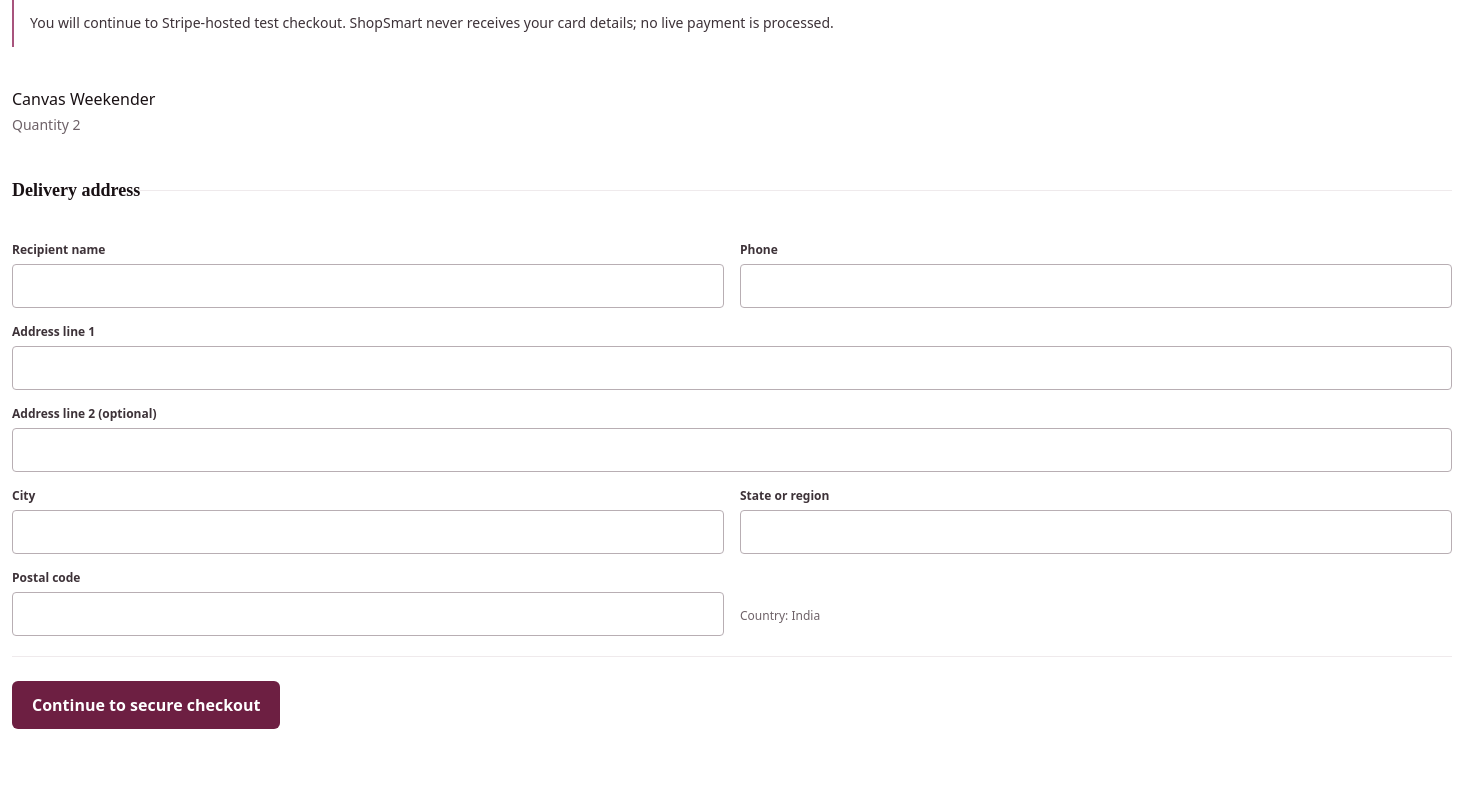
it: CheckoutForm › rejects an unverified redirect destination and does not claim an order was paid
The image size is (1464, 810).
In the field labelled "Recipient name": [368, 286] box x1=12 y1=264 x2=724 y2=308, type "Portfolio Shopper"
In the field labelled "Phone": [1096, 286] box x1=740 y1=264 x2=1452 y2=308, type "+91 98765 43210"
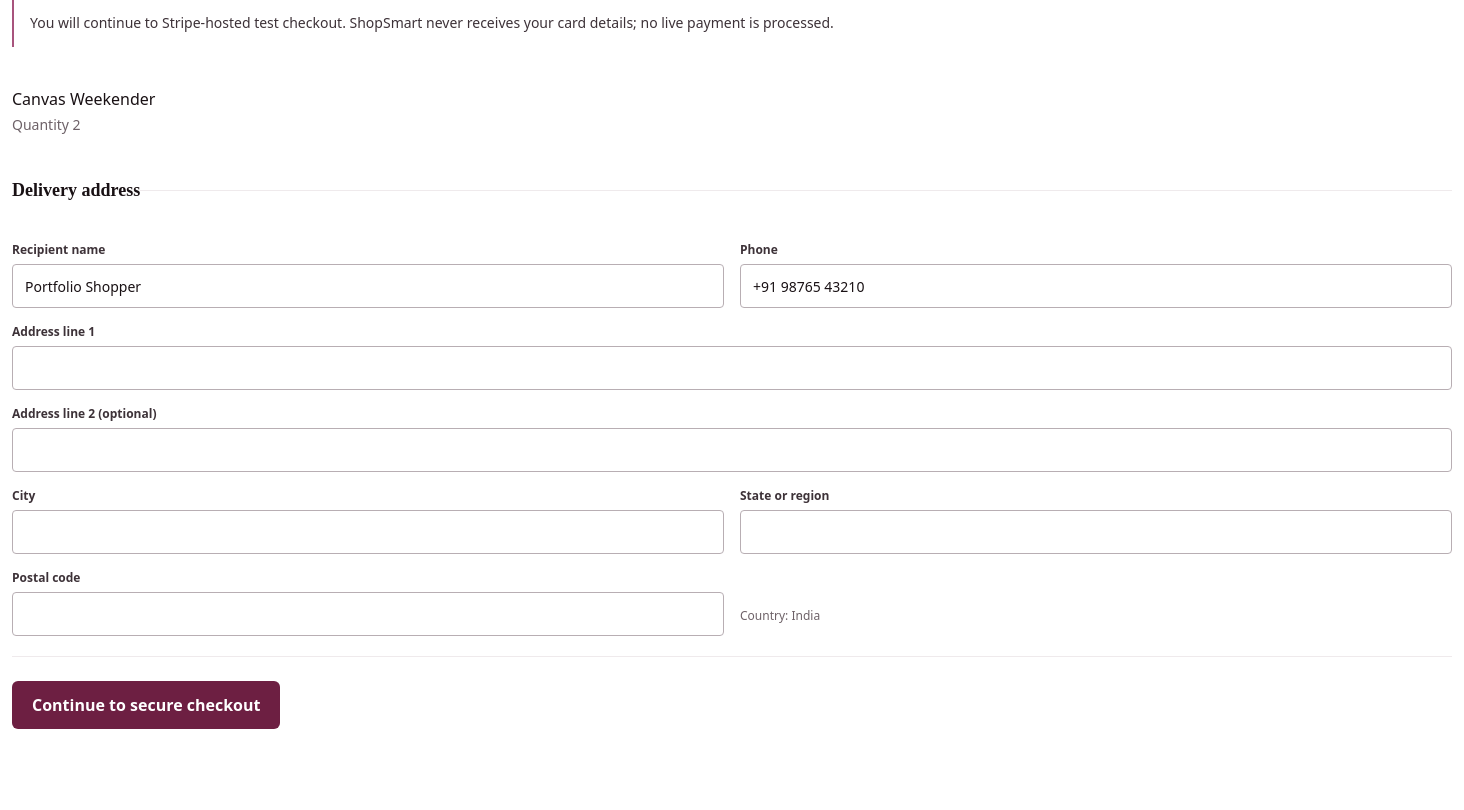
In the field labelled "Address line 1": [732, 368] box x1=12 y1=346 x2=1452 y2=390, type "12 Example Road"
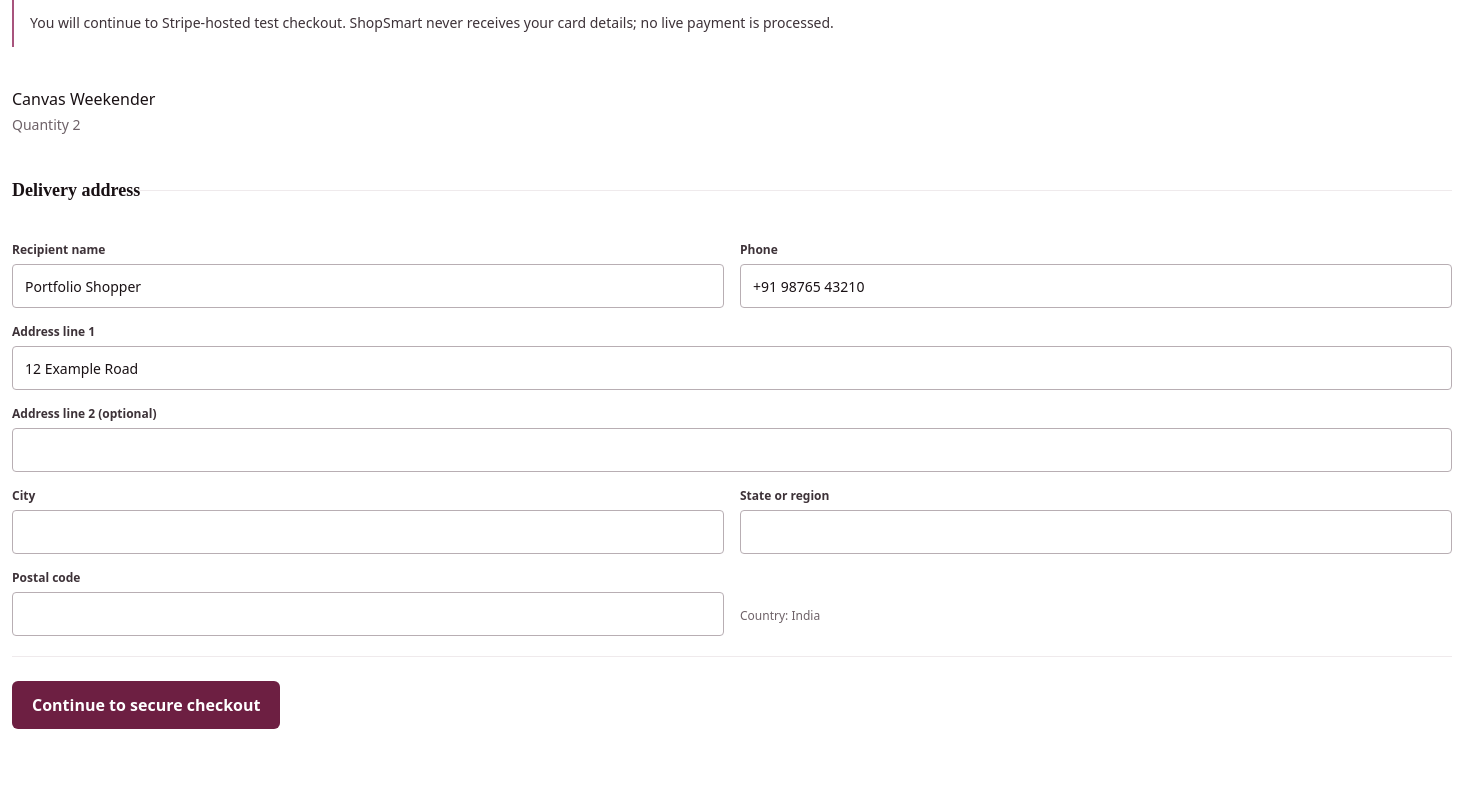
In the field labelled "City": [368, 532] box x1=12 y1=510 x2=724 y2=554, type "Bengaluru"
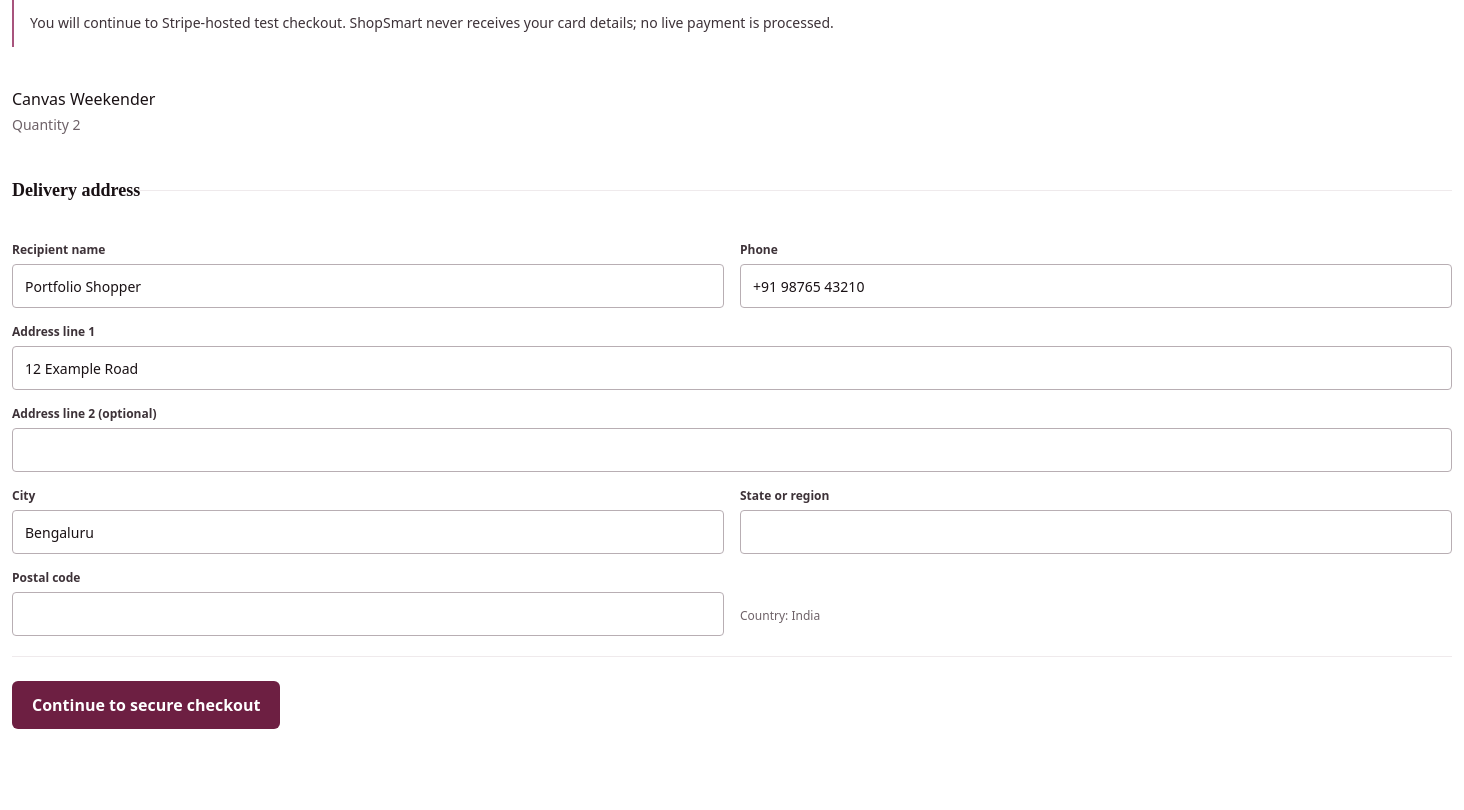
In the field labelled "State or region": [1096, 532] box x1=740 y1=510 x2=1452 y2=554, type "Karnataka"
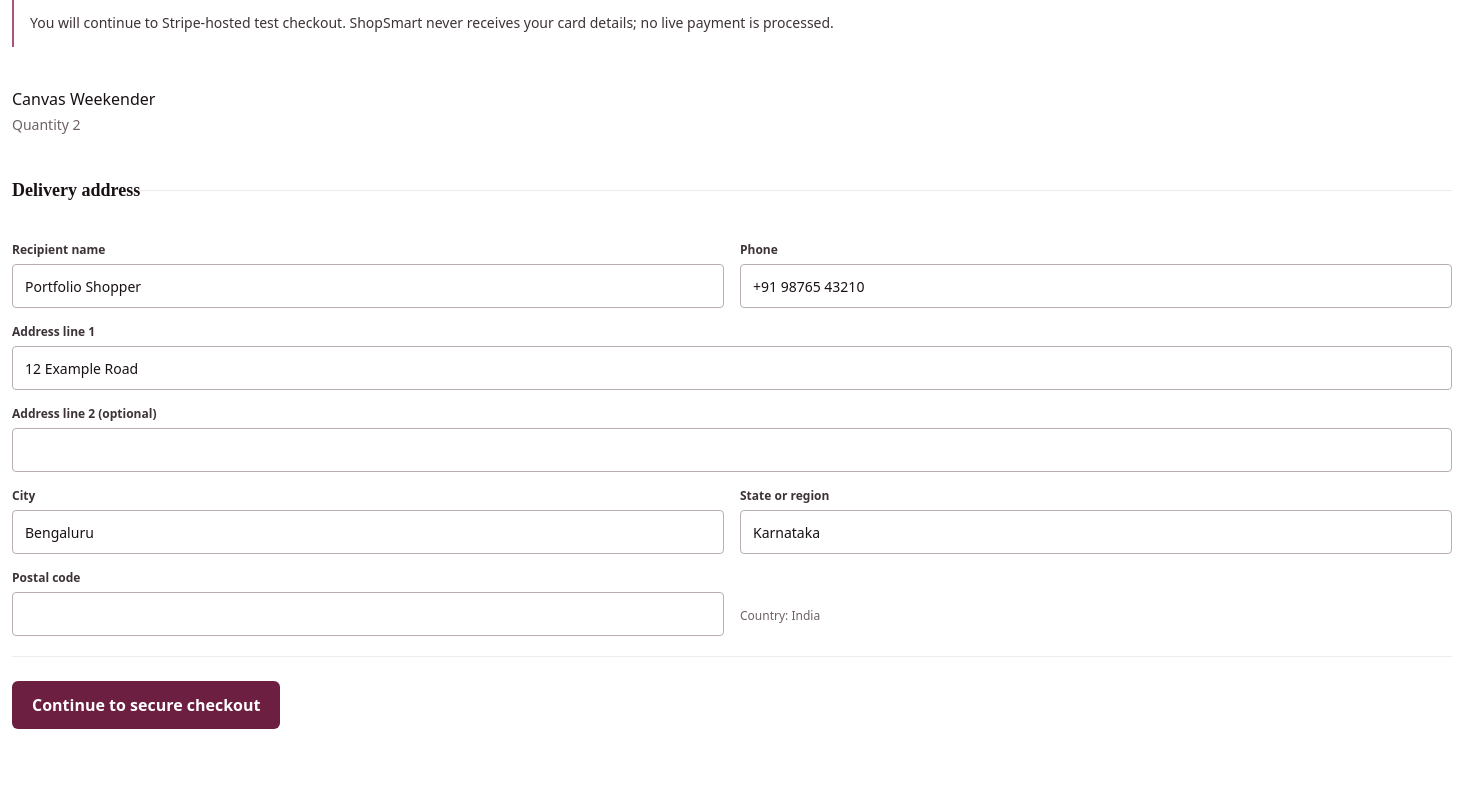
In the field labelled "Postal code": [368, 614] box x1=12 y1=592 x2=724 y2=636, type "560001"
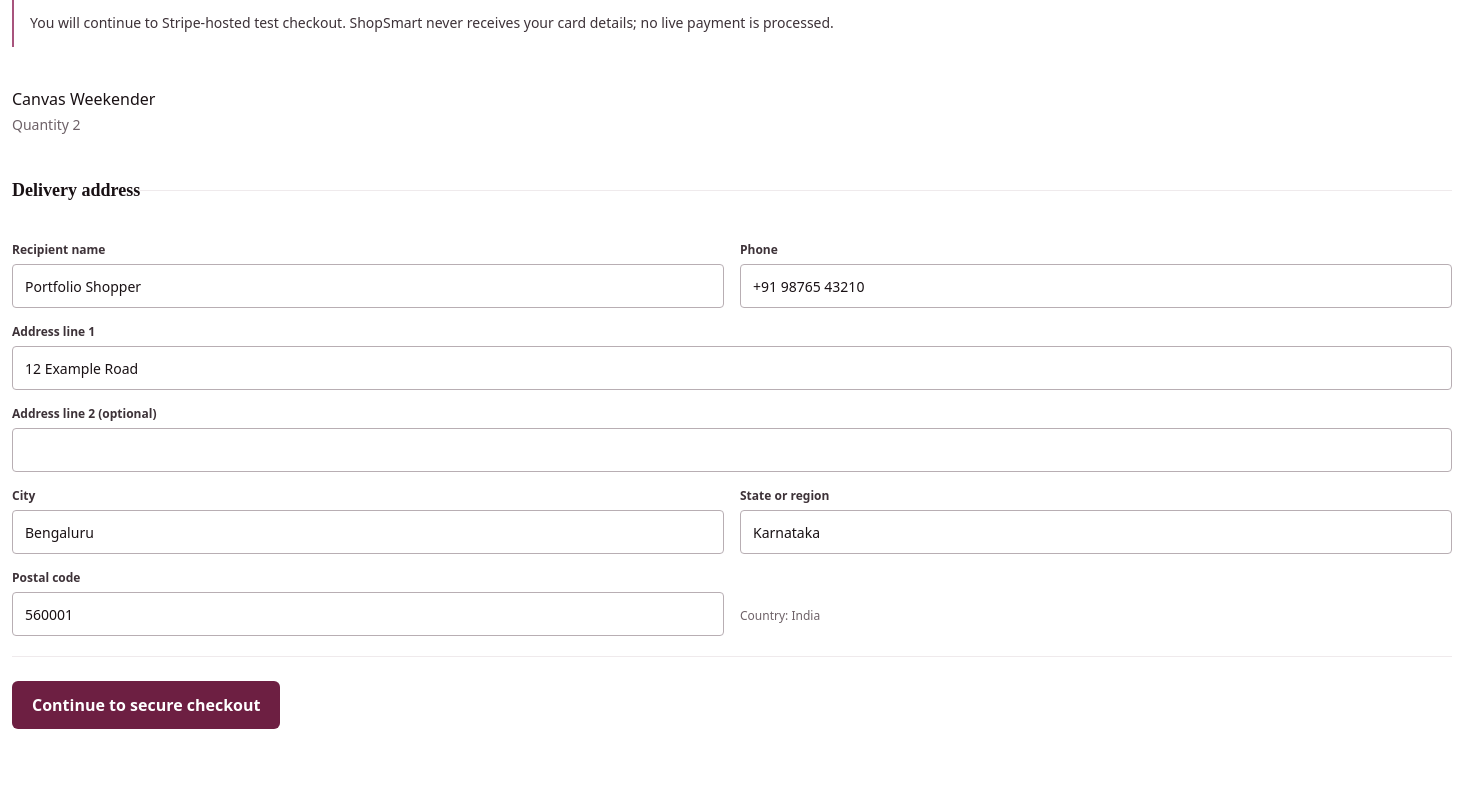
Click the button "Continue to secure checkout": [146, 705] box x1=12 y1=681 x2=280 y2=729
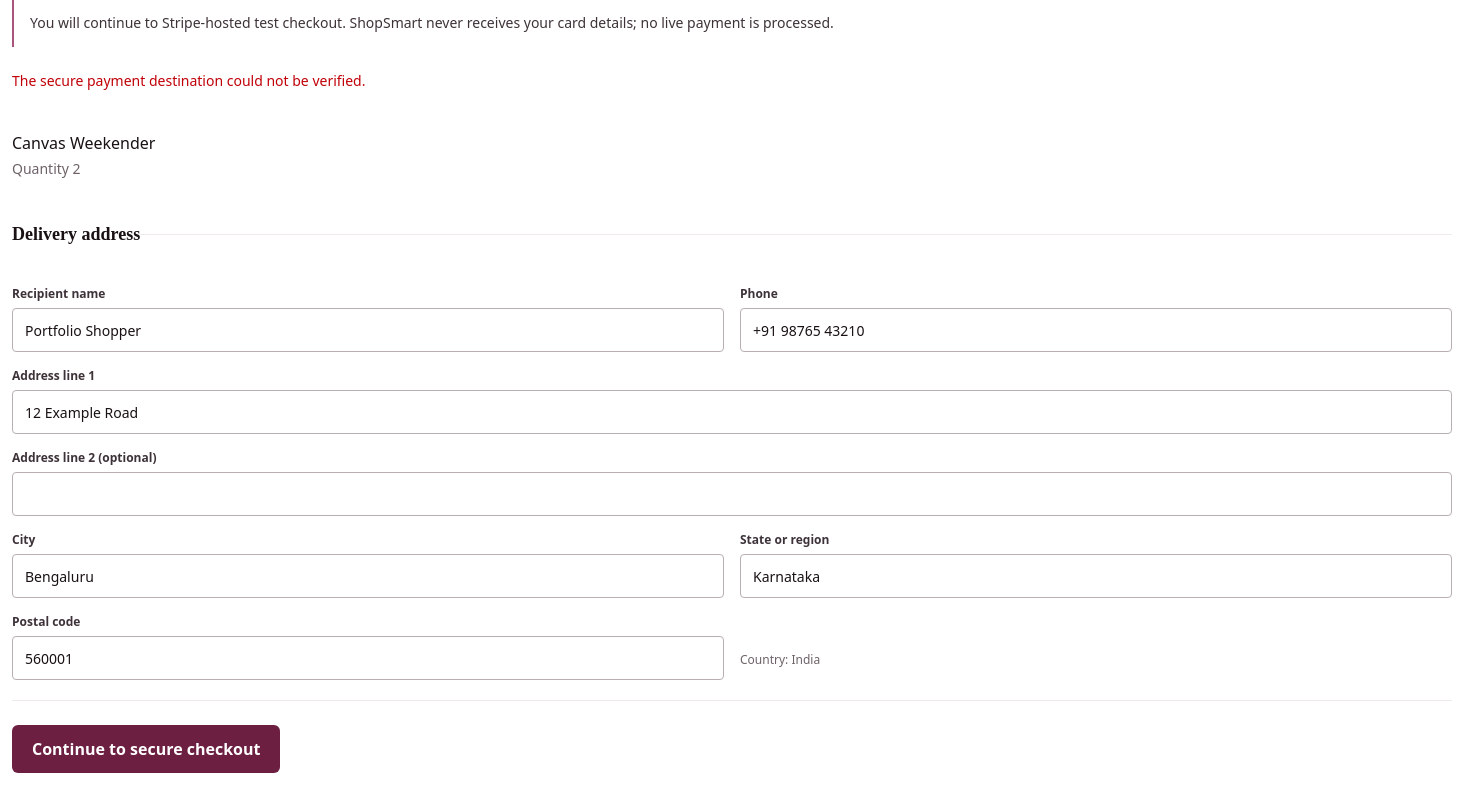
Expected: the message shows "destination could not be verified", x1=12 y1=71 x2=366 y2=90
